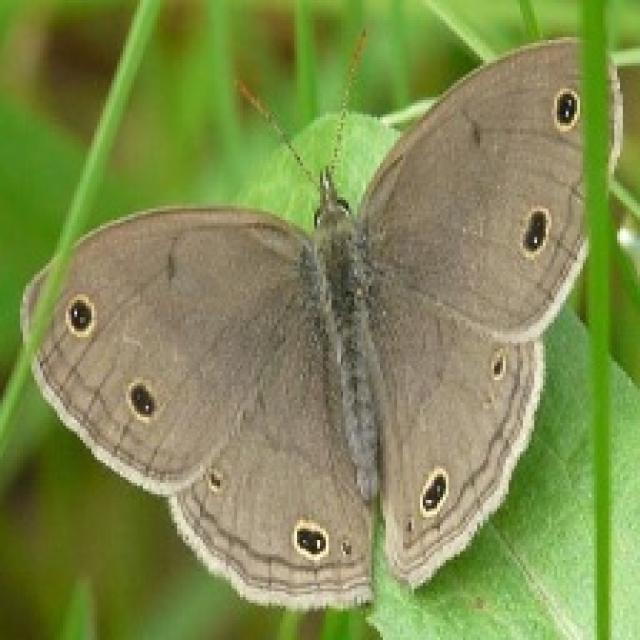butterfly: (17, 26, 623, 614)
